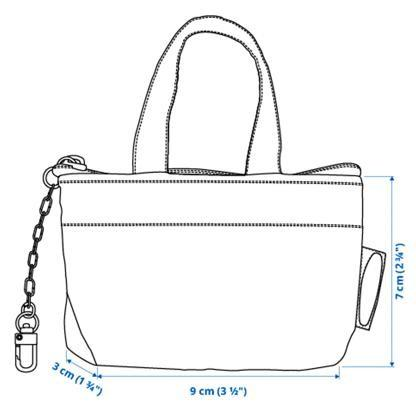not trash: (9, 15, 386, 376)
